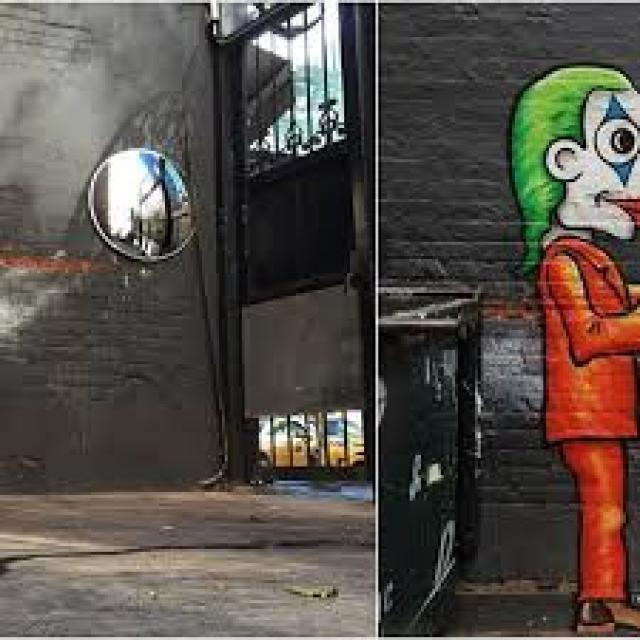-: (509, 59, 640, 632)
